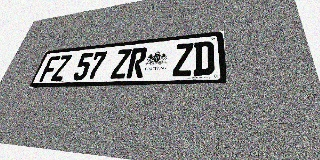5: (72, 52, 94, 80)
7: (85, 51, 107, 80)
D: (193, 41, 214, 76)
F: (39, 56, 61, 82)
R: (126, 47, 148, 78)
Z: (172, 43, 193, 77), (110, 49, 132, 79), (50, 55, 72, 81)
